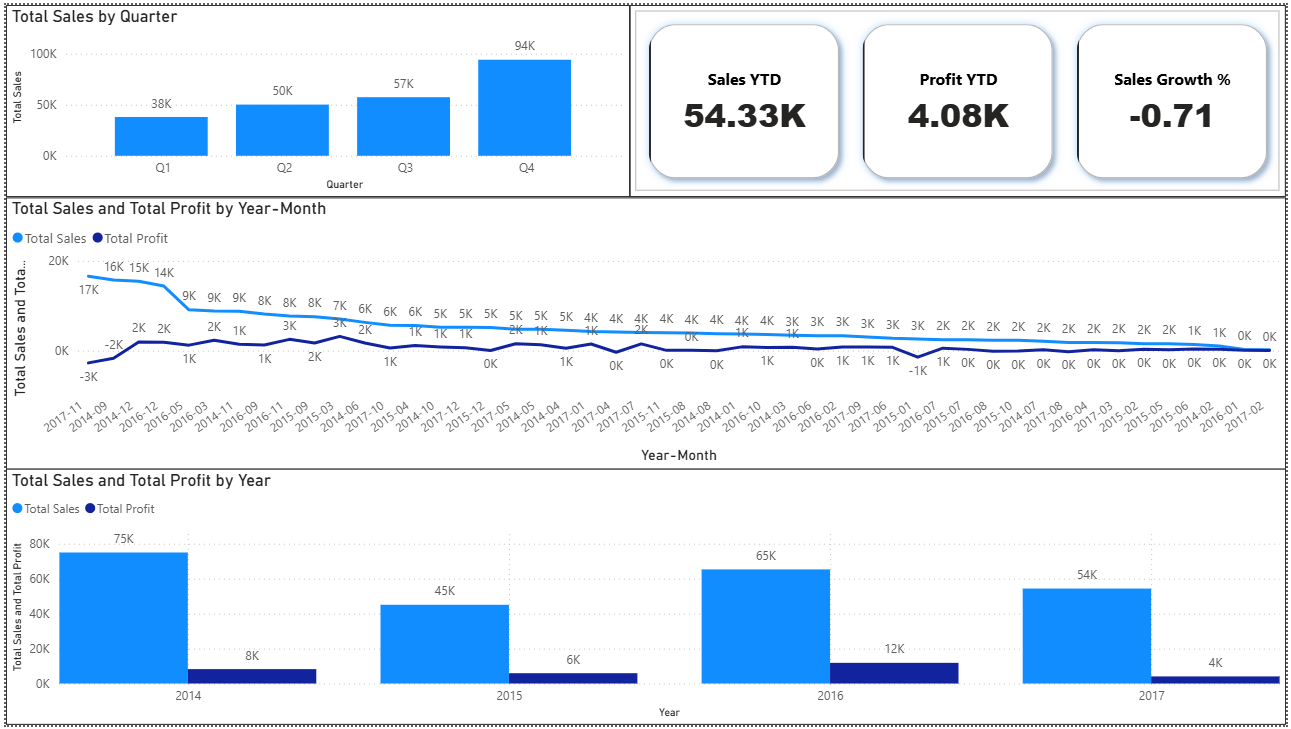

What the dashboard file says about the page in this screenshot:
{"tool":"powerbi","page":{"name":"Time series Analysis","canvas":[1280,720],"ordinal":3},"visuals":[{"type":"cardVisual","fields":{"Data":["OrderDetails.Sales YTD","OrderDetails.Profit YTD","OrderDetails.Sales Growth %"]},"box":[624,0,656,192],"z":0},{"type":"lineChart","fields":{"Category":["Date.Year-Month"],"Y":["OrderDetails.Total Sales","OrderDetails.Total Profit"]},"box":[0,192,1280,272],"z":1000},{"type":"clusteredColumnChart","fields":{"Category":["Date.Quarter"],"Y":["OrderDetails.Total Sales"]},"box":[0,0,624,192],"z":2000},{"type":"clusteredColumnChart","fields":{"Category":["Date.Year"],"Y":["OrderDetails.Total Sales","OrderDetails.Total Profit"]},"box":[0,464,1280,256],"z":3000}]}

Visuals, with their boxes in screenshot pixels (x1, y1, x2, y2), scaled from the page's 1280x720 canvas onto the 1291x729 screenshot:
cardVisual - OrderDetails.Sales YTD x OrderDetails.Profit YTD: x1=629, y1=0, x2=1290, y2=194
lineChart - Date.Year-Month x OrderDetails.Total Sales: x1=0, y1=194, x2=1290, y2=470
clusteredColumnChart - Date.Quarter x OrderDetails.Total Sales: x1=0, y1=0, x2=629, y2=194
clusteredColumnChart - Date.Year x OrderDetails.Total Sales: x1=0, y1=470, x2=1290, y2=728
